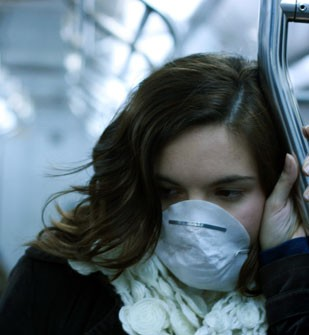with_mask: (148, 117, 271, 302)
